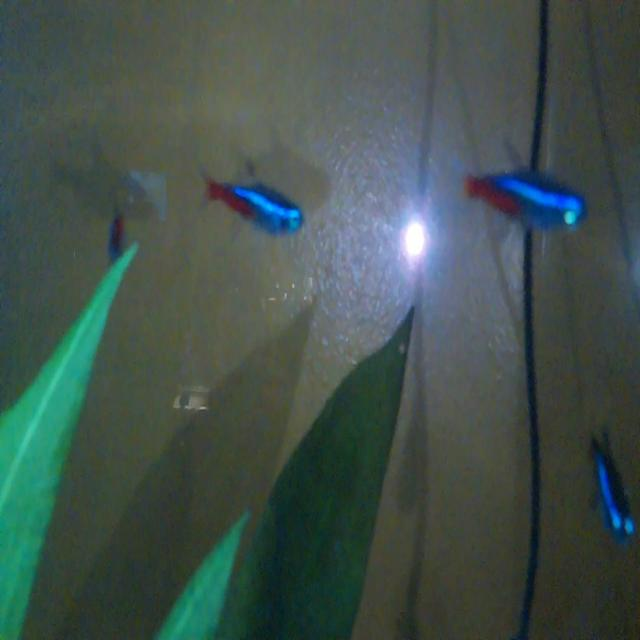fish: (451, 124, 589, 244), (189, 147, 313, 248), (571, 411, 639, 557)
